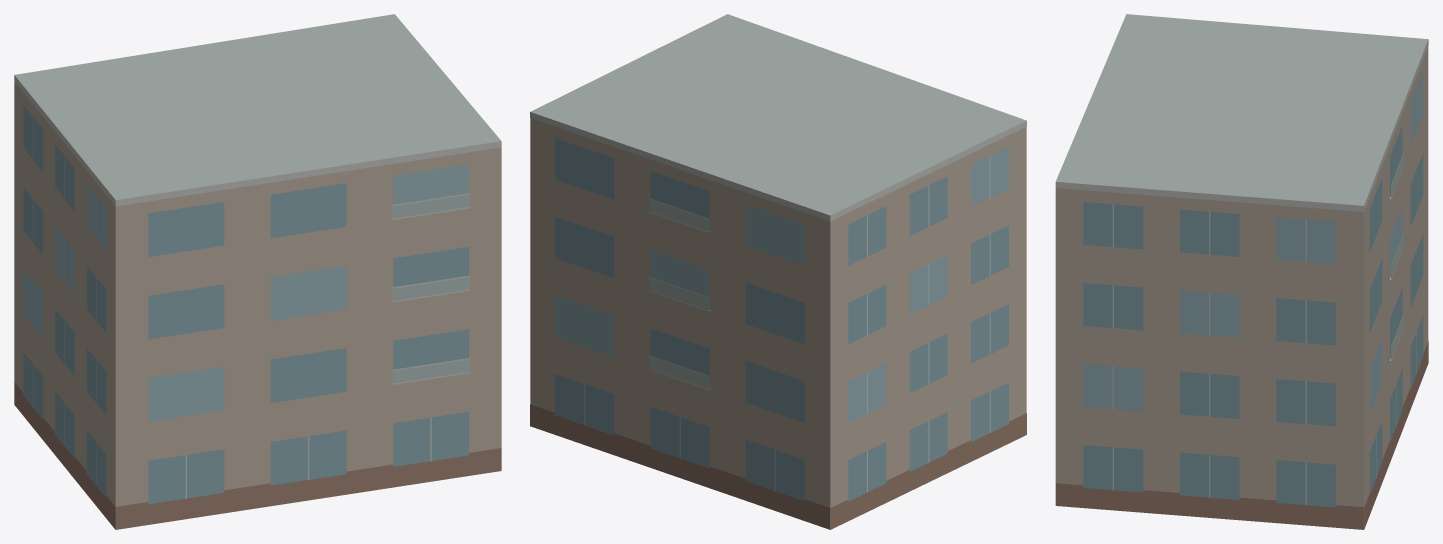
File: survey-upis-32653325.glb
3 views of the same model, side by side, from view 1: azimuth 30°, elevation 25°; view 2: azimuth 150°, elevation 25°; view 3: azimuth 270°, elevation 25° (orthographic). The views are drawn at different scales.
Parts seen in each view (by area): view 1: survey-upis-32653325.tmp; view 2: survey-upis-32653325.tmp; view 3: survey-upis-32653325.tmp.
Part boxes in pixels (x1,y1,x2,y2): survey-upis-32653325.tmp: [14, 14, 501, 529]; survey-upis-32653325.tmp: [530, 14, 1026, 529]; survey-upis-32653325.tmp: [1055, 14, 1428, 529].
Bounding box in the file's own units: 16.26 × 12.8 × 13.36.
